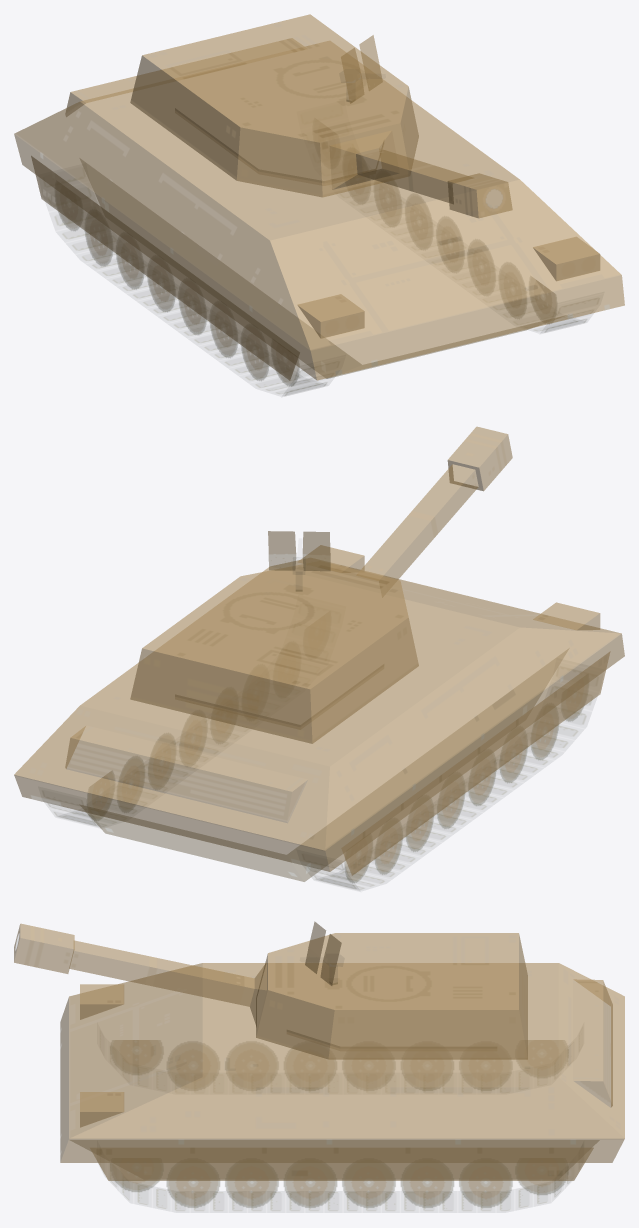
Rendered from Low_poly_tank.glb.
The picture shows the model from 3 angles, top to bottom: view 1: azimuth 30°, elevation 25°; view 2: azimuth 150°, elevation 25°; view 3: azimuth 270°, elevation 25°; orthographic projection. The views are drawn at different scales.
Visible parts, largest first — view 1: Base_0, Top_0, Tracks_0, Details_0, Turrent_0; view 2: Base_0, Top_0, Tracks_0, Details_0, Turrent_0; view 3: Base_0, Top_0, Tracks_0, Details_0, Turrent_0.
Boxes of the visible parts, bbox=[...] form: Base_0: bbox=[14, 38, 624, 380]; Top_0: bbox=[130, 14, 512, 218]; Tracks_0: bbox=[31, 156, 587, 395]; Details_0: bbox=[298, 237, 600, 338]; Turrent_0: bbox=[341, 35, 382, 103]; Base_0: bbox=[14, 560, 624, 881]; Top_0: bbox=[130, 426, 512, 743]; Tracks_0: bbox=[47, 651, 610, 890]; Details_0: bbox=[298, 545, 600, 630]; Turrent_0: bbox=[268, 531, 330, 591]; Base_0: bbox=[60, 963, 624, 1162]; Top_0: bbox=[14, 923, 527, 1059]; Tracks_0: bbox=[90, 1040, 593, 1210]; Details_0: bbox=[80, 984, 123, 1127]; Turrent_0: bbox=[305, 921, 341, 985].
Bounding box in the file's own units: 1.02 × 0.7537 × 1.86.
1 material, 1 textured.
